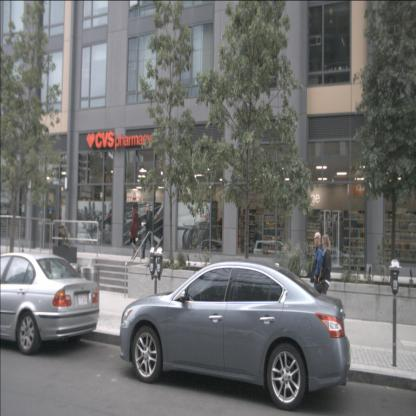human-pedestrian-adult: (310, 232, 324, 323), (317, 234, 331, 324), (141, 204, 155, 260), (129, 204, 139, 258)
vehicle-car: (119, 261, 350, 411), (0, 252, 100, 356)
